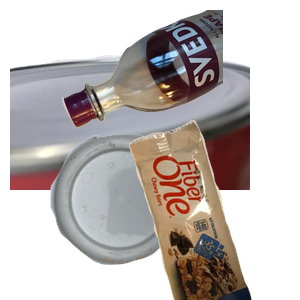glass: (60, 10, 300, 130)
metal: (10, 52, 250, 232)
plastic: (48, 132, 224, 300)
trash: (127, 120, 300, 300)
